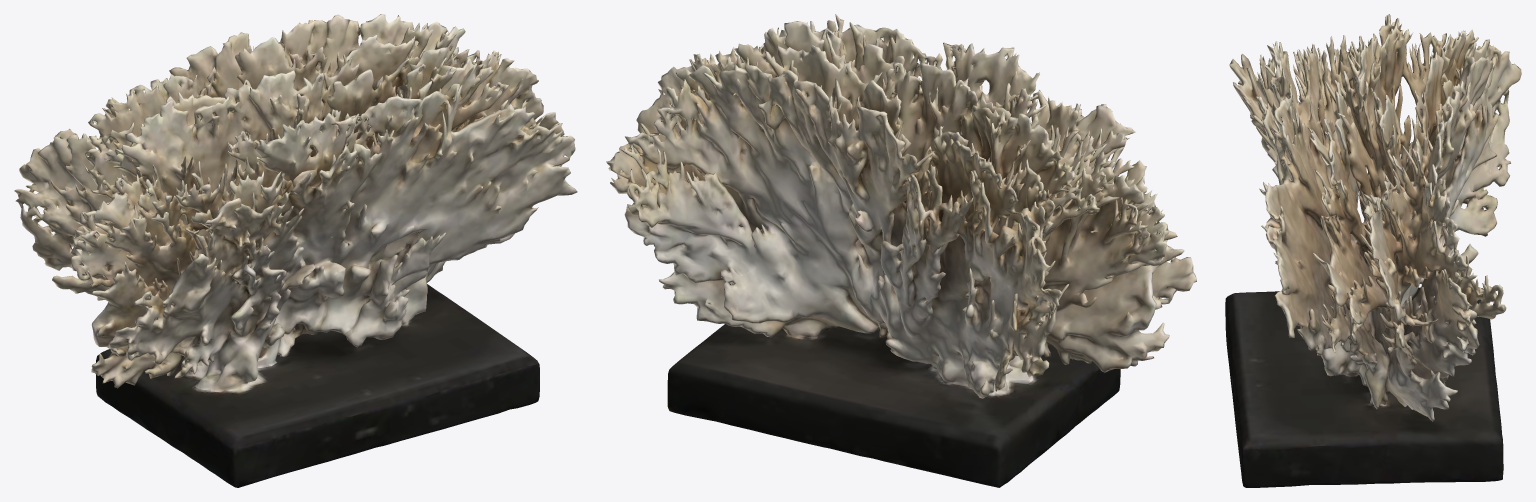
Rendered from millepora_alcicornis.glb.
3 views of the same model, side by side, from view 1: azimuth 30°, elevation 25°; view 2: azimuth 150°, elevation 25°; view 3: azimuth 270°, elevation 25° (orthographic). The views are drawn at different scales.
Size of the model in its own units: 0.5571 by 0.3689 by 0.2842.
Materials: 1 (1 with a texture image).
